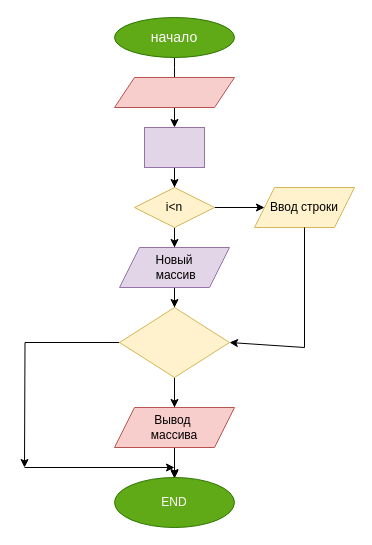
The diagram is 372 pixels wide and 545 high, and some of its shapes have lost their labels. The box of each missing label's shape, as (x1, y1, x2, y2) in pixels:
i=0: (144, 126, 204, 168)
Ввод n: (114, 76, 234, 108)
Строка <=3: (118, 306, 230, 378)
